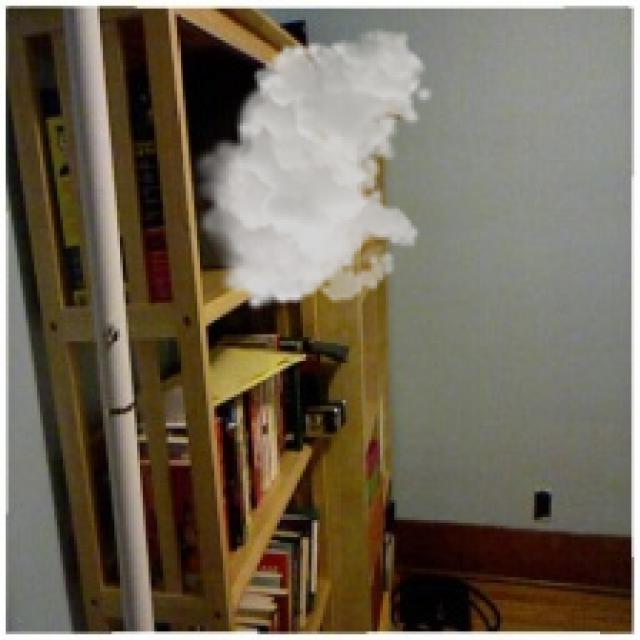smoke: (189, 28, 434, 312)
